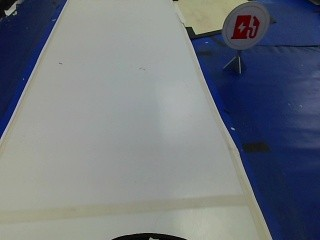battery: (225, 7, 269, 51)
